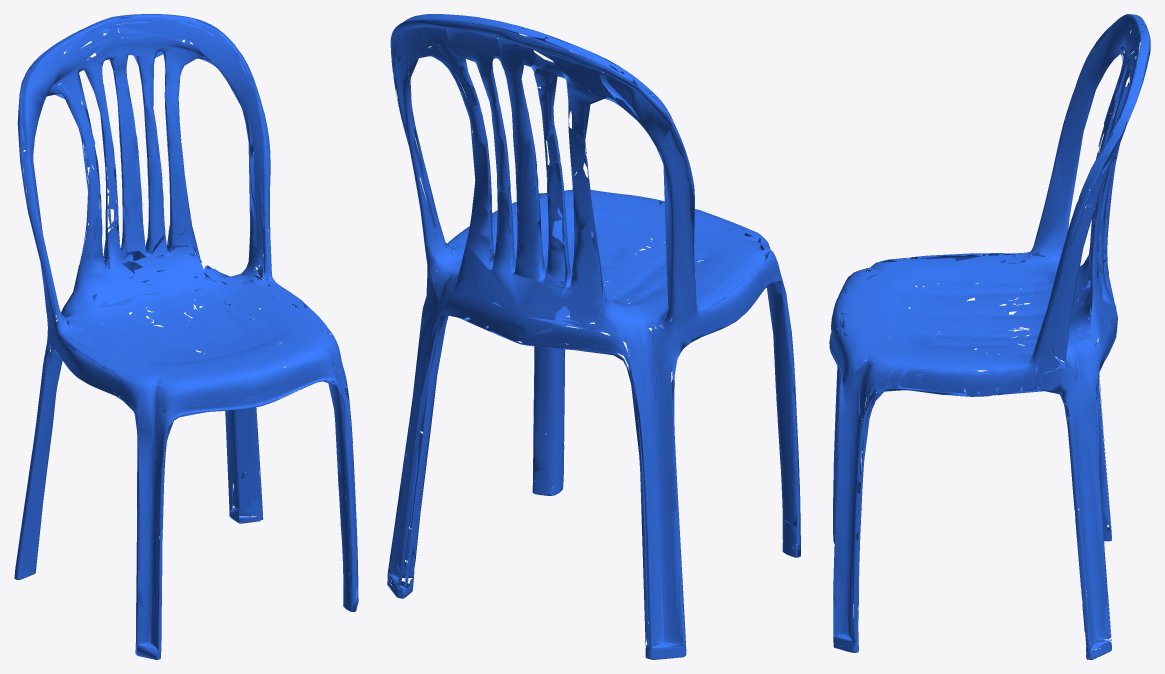
File: stool-high.optimized.glb
The picture shows the model from 3 angles, left to right: view 1: azimuth 30°, elevation 25°; view 2: azimuth 150°, elevation 25°; view 3: azimuth 270°, elevation 25°; orthographic projection. The views are drawn at different scales.
Parts seen in each view (by area): view 1: defaultMaterial; view 2: defaultMaterial; view 3: defaultMaterial.
Boxes of the visible parts, x1,y1,x2,y2 form: defaultMaterial: (14,14,358,659); defaultMaterial: (387,14,800,659); defaultMaterial: (829,14,1150,659).
Bounding box in the file's own units: 1.01 × 2 × 1.04.
